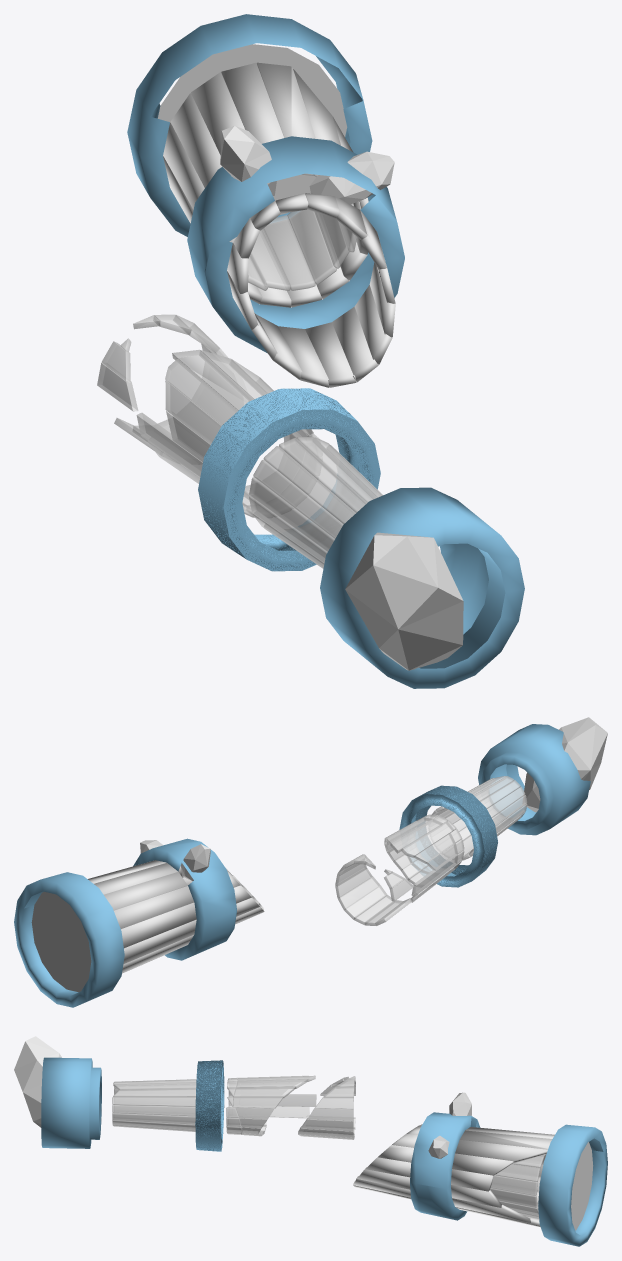
Rendered from Telecope.fbx.
The picture shows the model from 3 angles, top to bottom: view 1: azimuth 30°, elevation 25°; view 2: azimuth 150°, elevation 25°; view 3: azimuth 270°, elevation 25°; orthographic projection. The views are drawn at different scales.
Visible parts, largest first — view 1: Telescope, Cylinder.001, Cylinder.006, Icosphere.009, Cylinder.004, Cylinder.003, Cylinder.007, Cylinder.005, Cylinder.002, Icosphere.023, Icosphere.022; view 2: Cylinder.006, Cylinder.001, Telescope, Cylinder.002, Cylinder.004, Cylinder.003, Cylinder.007, Icosphere.009, Icosphere.022; view 3: Cylinder.006, Telescope, Cylinder.001, Cylinder.004, Cylinder.003, Cylinder.007, Cylinder.005, Icosphere.009, Cylinder.002, Icosphere.022, Icosphere.023.
Part boxes in pixels (left/top/right/bottom): Telescope: left=163, top=62, right=395, bottom=387; Cylinder.001: left=198, top=388, right=524, bottom=688; Cylinder.006: left=127, top=14, right=404, bottom=353; Icosphere.009: left=345, top=532, right=463, bottom=670; Cylinder.004: left=242, top=429, right=382, bottom=568; Cylinder.003: left=136, top=349, right=313, bottom=510; Cylinder.007: left=97, top=314, right=247, bottom=464; Cylinder.005: left=229, top=173, right=357, bottom=290; Cylinder.002: left=157, top=44, right=347, bottom=218; Icosphere.023: left=309, top=151, right=394, bottom=204; Icosphere.022: left=220, top=125, right=276, bottom=195; Cylinder.006: left=14, top=838, right=236, bottom=1007; Cylinder.001: left=399, top=724, right=590, bottom=887; Telescope: left=88, top=860, right=264, bottom=973; Cylinder.002: left=31, top=891, right=91, bottom=992; Cylinder.004: left=408, top=776, right=527, bottom=872; Cylinder.003: left=384, top=817, right=460, bottom=902; Cylinder.007: left=335, top=854, right=414, bottom=925; Icosphere.009: left=523, top=717, right=607, bottom=812; Icosphere.022: left=181, top=844, right=210, bottom=881; Cylinder.006: left=410, top=1112, right=607, bottom=1246; Telescope: left=353, top=1124, right=554, bottom=1226; Cylinder.001: left=41, top=1057, right=224, bottom=1151; Cylinder.004: left=112, top=1078, right=242, bottom=1134; Cylinder.003: left=231, top=1075, right=316, bottom=1136; Cylinder.007: left=298, top=1076, right=355, bottom=1139; Cylinder.005: left=490, top=1153, right=546, bottom=1217; Icosphere.009: left=14, top=1036, right=61, bottom=1127; Cylinder.002: left=571, top=1142, right=593, bottom=1230; Icosphere.022: left=449, top=1092, right=471, bottom=1115; Icosphere.023: left=428, top=1135, right=449, bottom=1158.
Size of the model in its own units: 680 by 282 by 1311.
